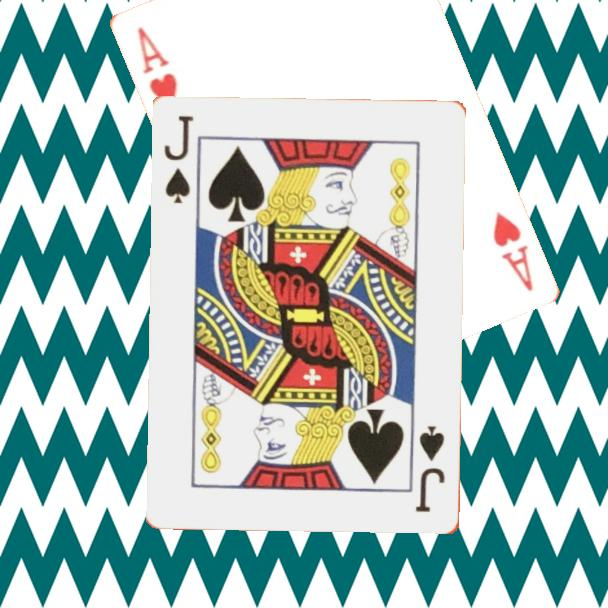h01: (488, 207, 536, 294), (133, 23, 180, 111)
s11: (161, 112, 197, 207), (413, 422, 448, 515)
